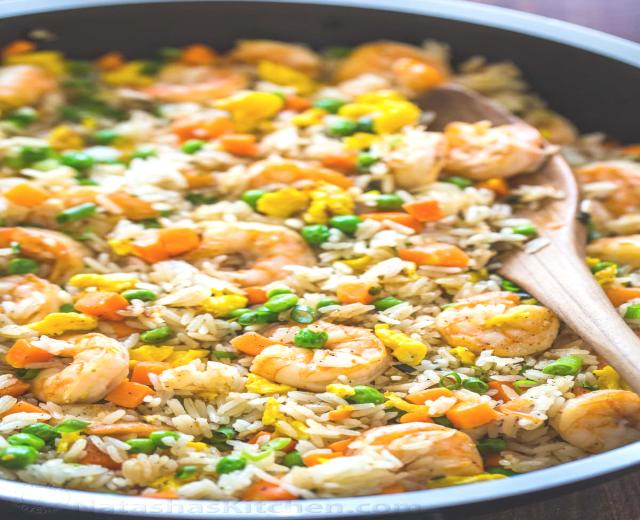fried rice: (0, 0, 640, 520), (60, 19, 640, 520), (3, 433, 636, 520), (17, 444, 640, 520), (622, 0, 635, 507)
